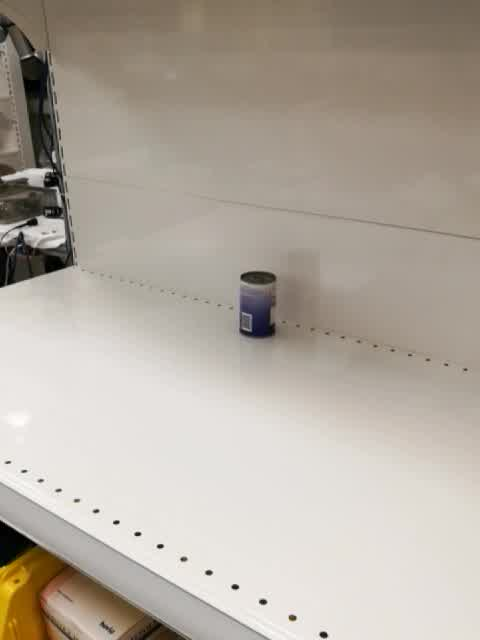sardine: (237, 270, 280, 341)
